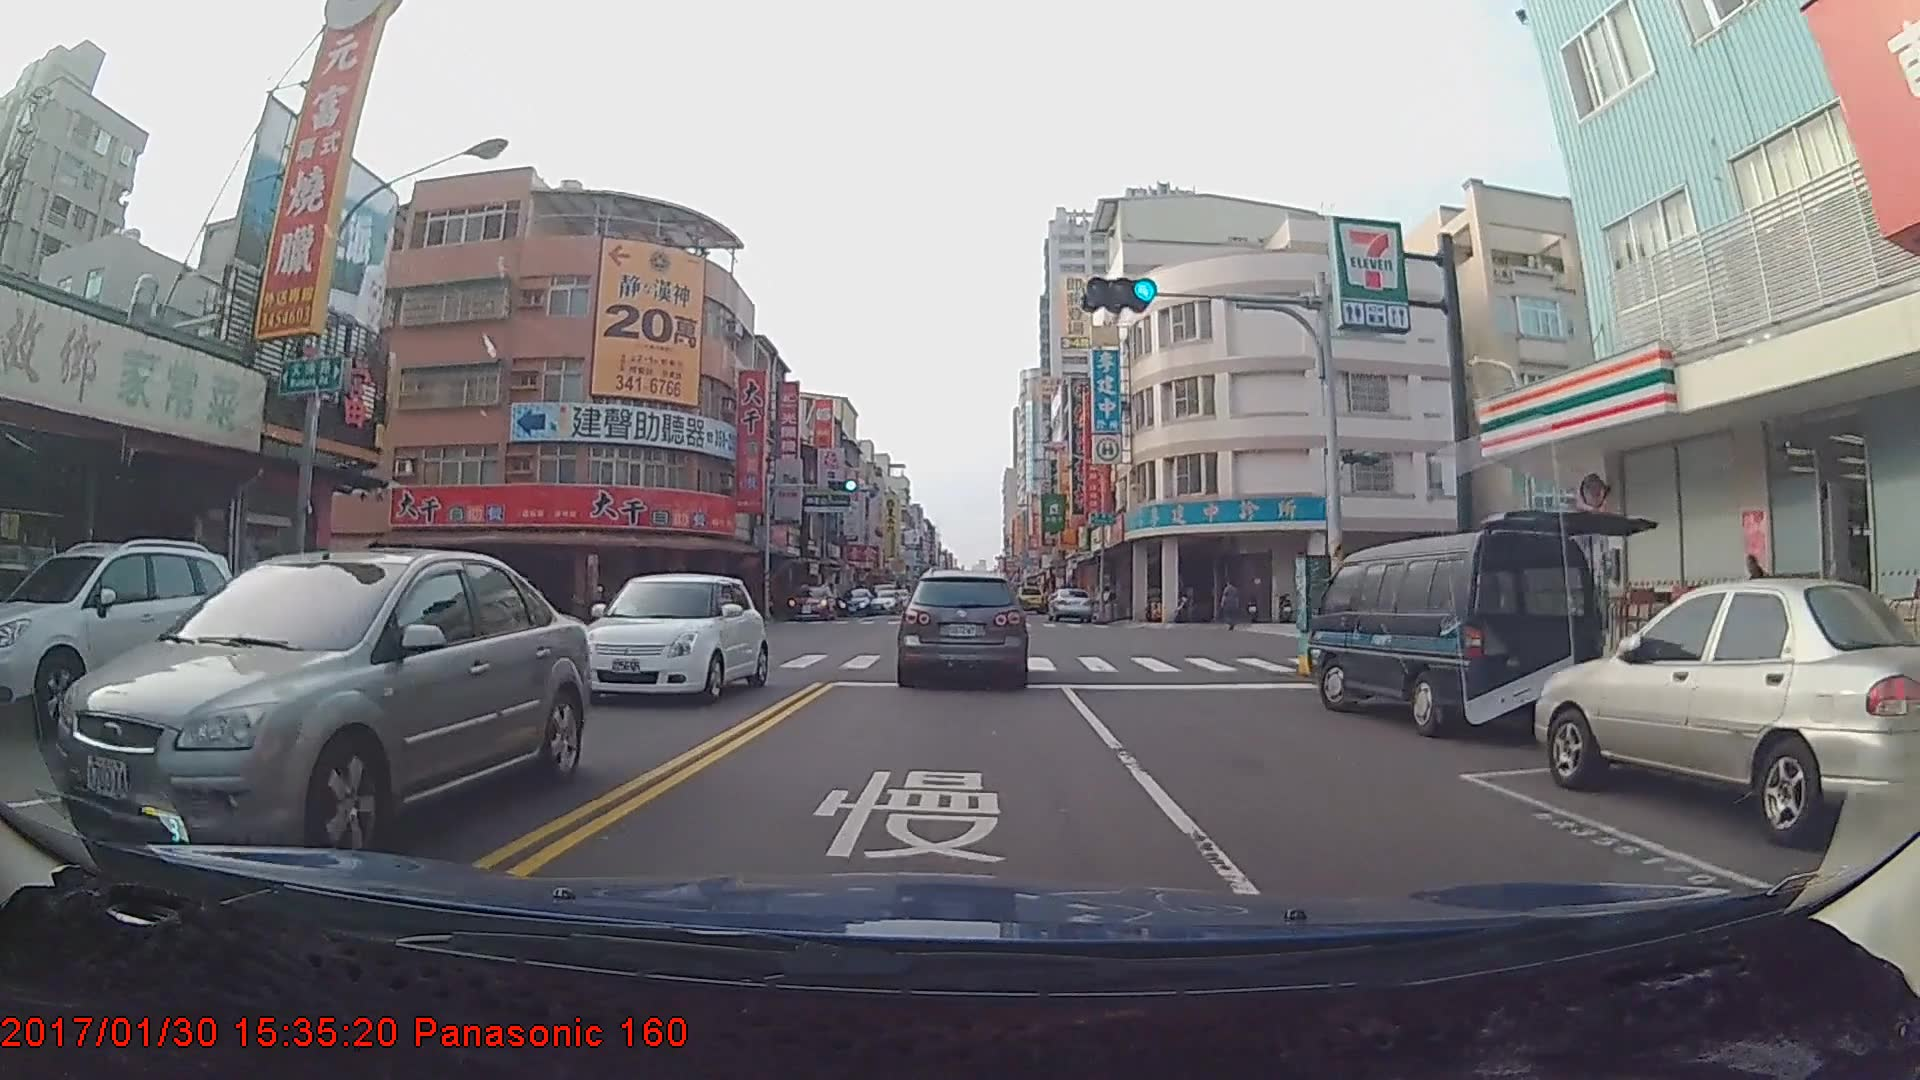pedestrian: (1223, 584, 1244, 637)
vehicle: (66, 547, 588, 864), (1534, 579, 1918, 850), (1304, 522, 1615, 742), (0, 531, 239, 727), (570, 571, 768, 709), (897, 568, 1030, 687), (1047, 586, 1094, 624), (786, 584, 834, 620), (836, 589, 874, 616), (1014, 585, 1046, 611)
